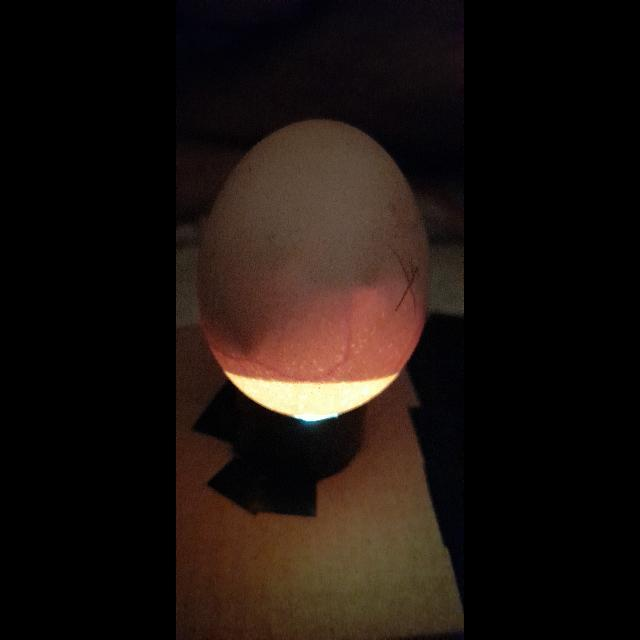Fertile: (193, 115, 435, 425)
